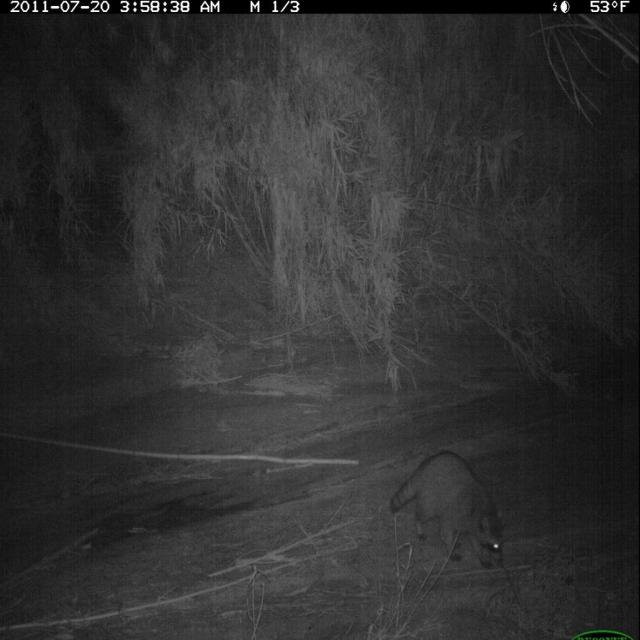raccoon: (386, 447, 514, 579)
